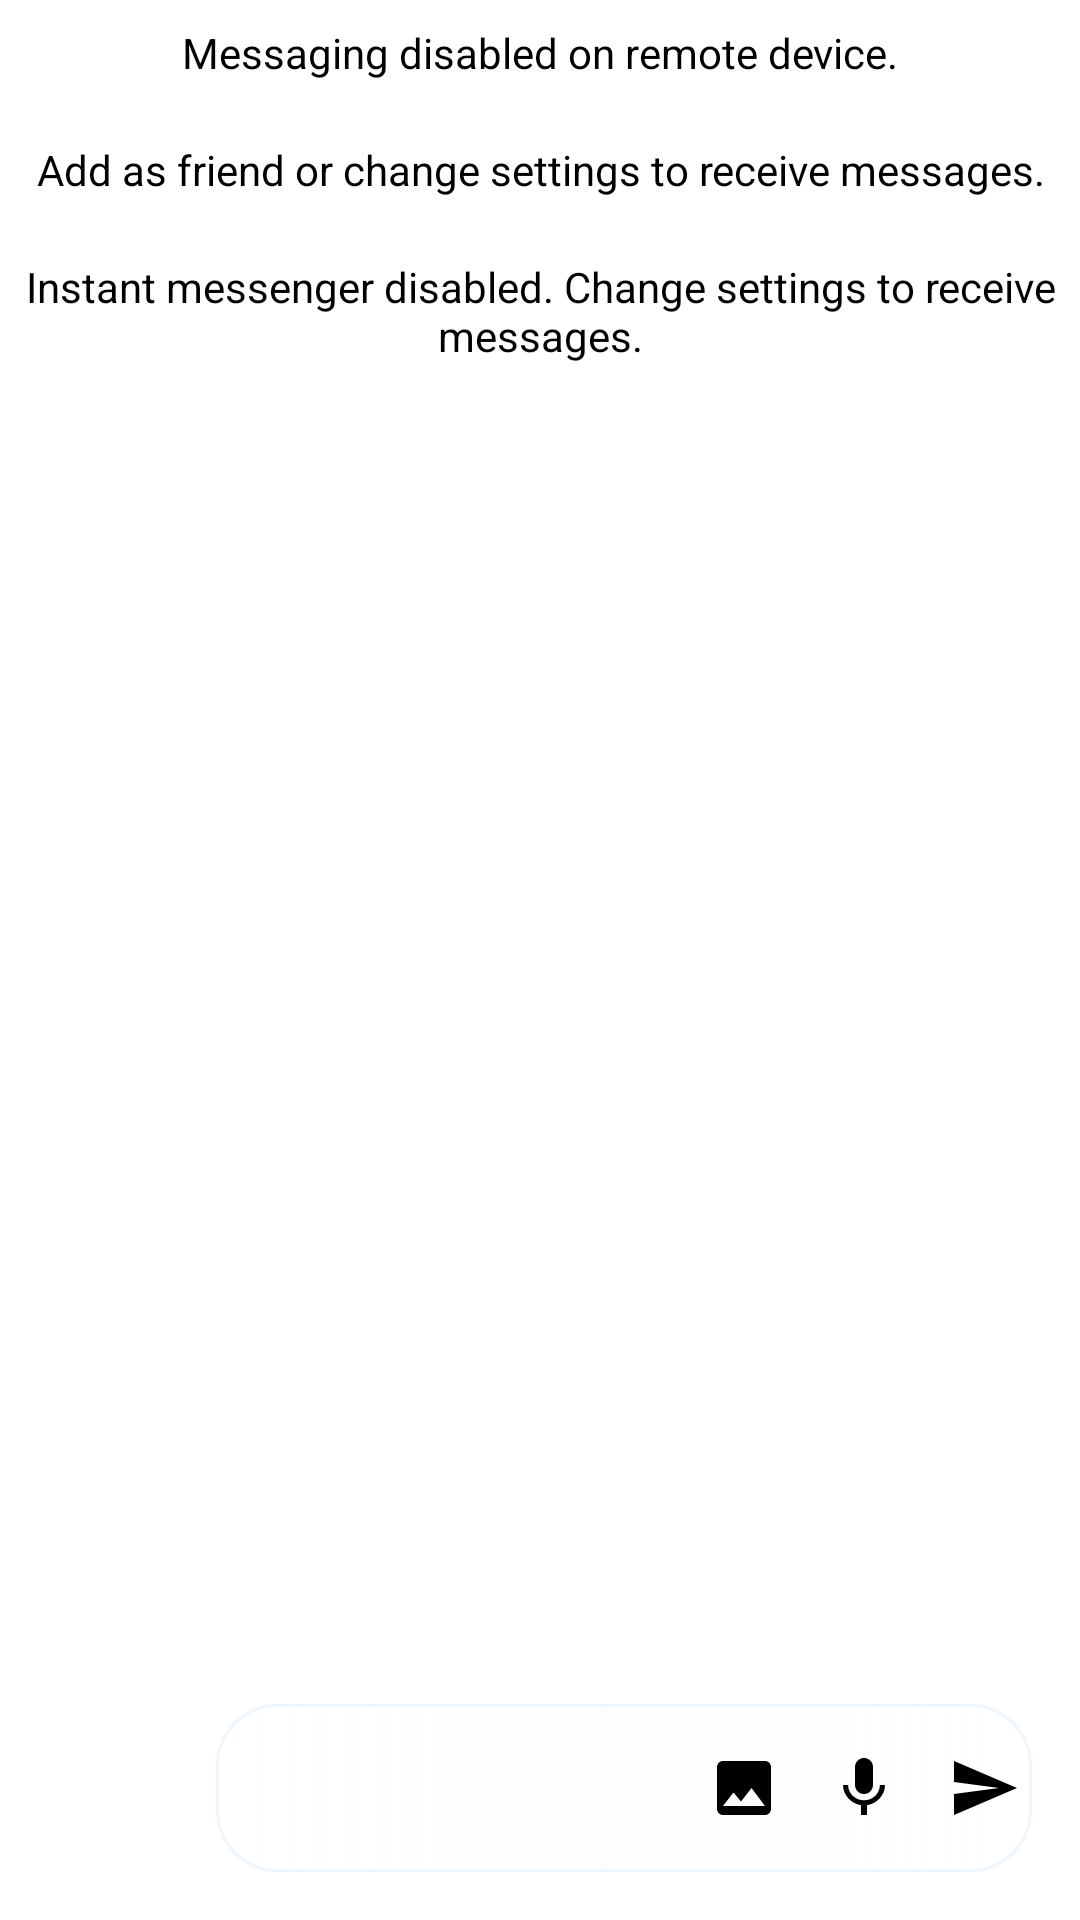

Screen size 1080x1920. Icon name, then its center in pixels as point (x, y):
Attach: point (744, 1788)
Micro: point (864, 1786)
Send: point (985, 1788)
